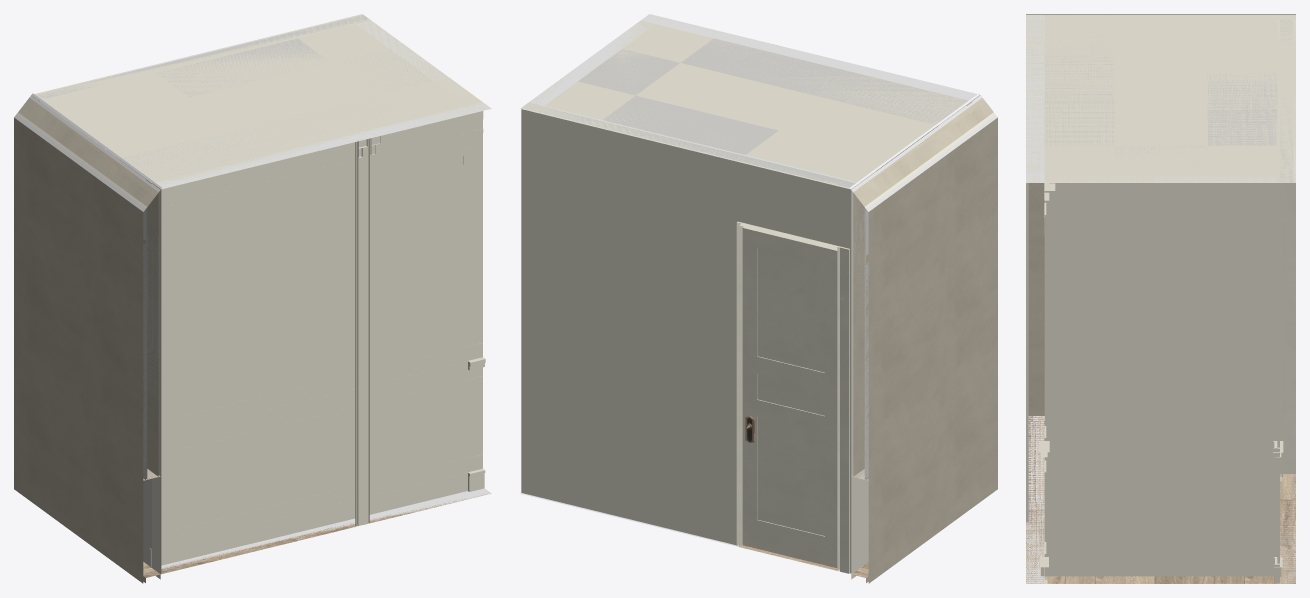
File: upstairs-closet-west-333e3347ceaa.glb
3 renders of one model, left to right at view 1: azimuth 30°, elevation 25°; view 2: azimuth 150°, elevation 25°; view 3: azimuth 270°, elevation 25°, orthographic. The views are drawn at different scales.
Visible parts, largest first — view 1: upstairs-closet-west-6e269356ae8bfd70, upstairs-closet-west-9d91b47435c6fb33, upstairs-closet-west-312b4ac1be39223d, upstairs-closet-west-33ee0b466567e5f0, upstairs-closet-west-ed5fdcd3ee9c0dd5, upstairs-closet-west-39b94aca90fa4b53, upstairs-closet-west-3a4d9d62ecd7be1c, upstairs-closet-west-414385708a06acff, upstairs-closet-west-06754748489735a0, upstairs-closet-west-6a4a24524a86ae48, upstairs-closet-west-b63ee86b16afd4c0, upstairs-closet-west-1e3385c37a14aaf6 (+9 smaller); view 2: upstairs-closet-west-eb02897c2e79e2b1, upstairs-closet-west-312b4ac1be39223d, upstairs-closet-west-7406100458e293ce, upstairs-closet-west-9d91b47435c6fb33, upstairs-closet-west-33ee0b466567e5f0, upstairs-closet-west-242740a07d2af182, upstairs-closet-west-6a4a24524a86ae48, upstairs-closet-west-3a4d9d62ecd7be1c, upstairs-closet-west-39b94aca90fa4b53, upstairs-closet-west-442e5a19ed849720, upstairs-closet-west-4fe731a8ba1c3bde, upstairs-closet-west-6e269356ae8bfd70 (+3 smaller); view 3: upstairs-closet-west-af27112094daa34f, upstairs-closet-west-9d91b47435c6fb33, upstairs-closet-west-6e269356ae8bfd70, upstairs-closet-west-2575515a05775d9e, upstairs-closet-west-6a4a24524a86ae48, upstairs-closet-west-442e5a19ed849720, upstairs-closet-west-242740a07d2af182, upstairs-closet-west-7f77ce4796f35946, upstairs-closet-west-eb02897c2e79e2b1, upstairs-closet-west-ed5fdcd3ee9c0dd5, upstairs-closet-west-72fcfe59ea86eabd.
Part boxes in pixels (x1,y1,x2,y2): upstairs-closet-west-6e269356ae8bfd70: (152,102,491,573); upstairs-closet-west-9d91b47435c6fb33: (31,14,491,188); upstairs-closet-west-312b4ac1be39223d: (14,114,145,480); upstairs-closet-west-33ee0b466567e5f0: (14,386,160,583); upstairs-closet-west-ed5fdcd3ee9c0dd5: (355,138,369,526); upstairs-closet-west-39b94aca90fa4b53: (18,98,158,479); upstairs-closet-west-3a4d9d62ecd7be1c: (29,95,160,476); upstairs-closet-west-414385708a06acff: (149,469,478,567); upstairs-closet-west-06754748489735a0: (165,160,355,424); upstairs-closet-west-6a4a24524a86ae48: (155,38,329,97); upstairs-closet-west-b63ee86b16afd4c0: (165,407,355,535); upstairs-closet-west-1e3385c37a14aaf6: (249,358,479,422); upstairs-closet-west-eb02897c2e79e2b1: (520,103,859,574); upstairs-closet-west-312b4ac1be39223d: (866,114,997,480); upstairs-closet-west-7406100458e293ce: (742,226,837,567); upstairs-closet-west-9d91b47435c6fb33: (520,14,980,189); upstairs-closet-west-33ee0b466567e5f0: (851,386,997,583); upstairs-closet-west-242740a07d2af182: (681,38,971,130); upstairs-closet-west-6a4a24524a86ae48: (602,95,778,154); upstairs-closet-west-3a4d9d62ecd7be1c: (851,95,982,476); upstairs-closet-west-39b94aca90fa4b53: (853,98,993,479); upstairs-closet-west-442e5a19ed849720: (736,221,840,571); upstairs-closet-west-4fe731a8ba1c3bde: (840,246,849,573); upstairs-closet-west-6e269356ae8bfd70: (641,14,979,100); upstairs-closet-west-af27112094daa34f: (1044,175,1277,583); upstairs-closet-west-9d91b47435c6fb33: (1026,14,1295,182); upstairs-closet-west-6e269356ae8bfd70: (1026,14,1044,583); upstairs-closet-west-2575515a05775d9e: (1026,416,1295,583); upstairs-closet-west-6a4a24524a86ae48: (1207,73,1277,145); upstairs-closet-west-442e5a19ed849720: (1283,183,1295,473); upstairs-closet-west-242740a07d2af182: (1044,21,1114,145); upstairs-closet-west-7f77ce4796f35946: (1044,215,1277,235); upstairs-closet-west-eb02897c2e79e2b1: (1277,15,1295,583); upstairs-closet-west-ed5fdcd3ee9c0dd5: (1026,183,1028,521); upstairs-closet-west-72fcfe59ea86eabd: (1280,183,1282,476).
Size of the model in its own units: 2.74 by 2.95 by 1.77.
22 materials, 3 textured.
